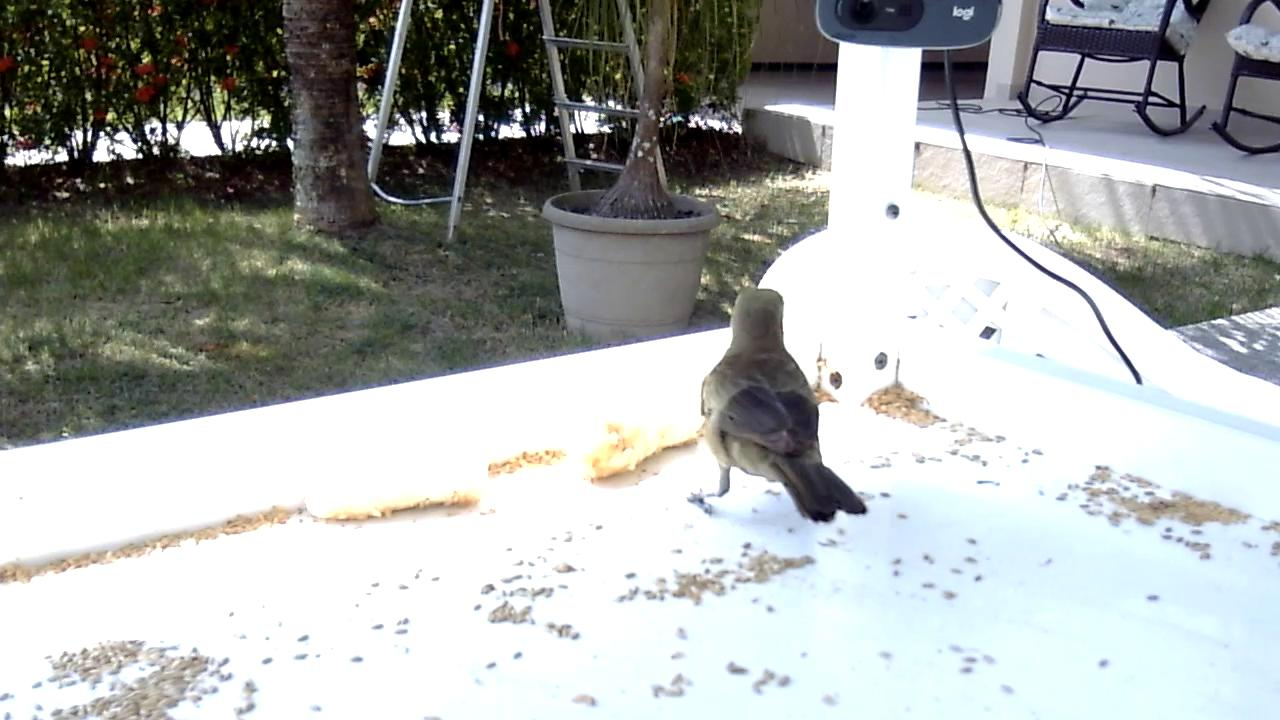sanhaco_do_coqueiro: (684, 282, 872, 530)
